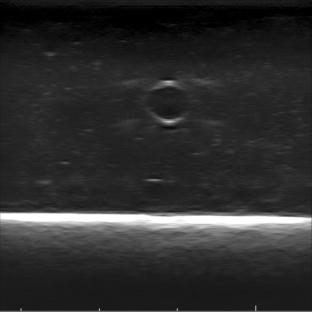vessel: (142, 79, 191, 125)
